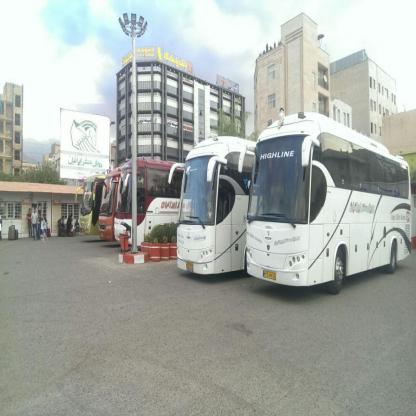Bus: (244, 125, 416, 289), (170, 131, 255, 279), (109, 162, 183, 246), (94, 159, 123, 235), (76, 174, 104, 242)
